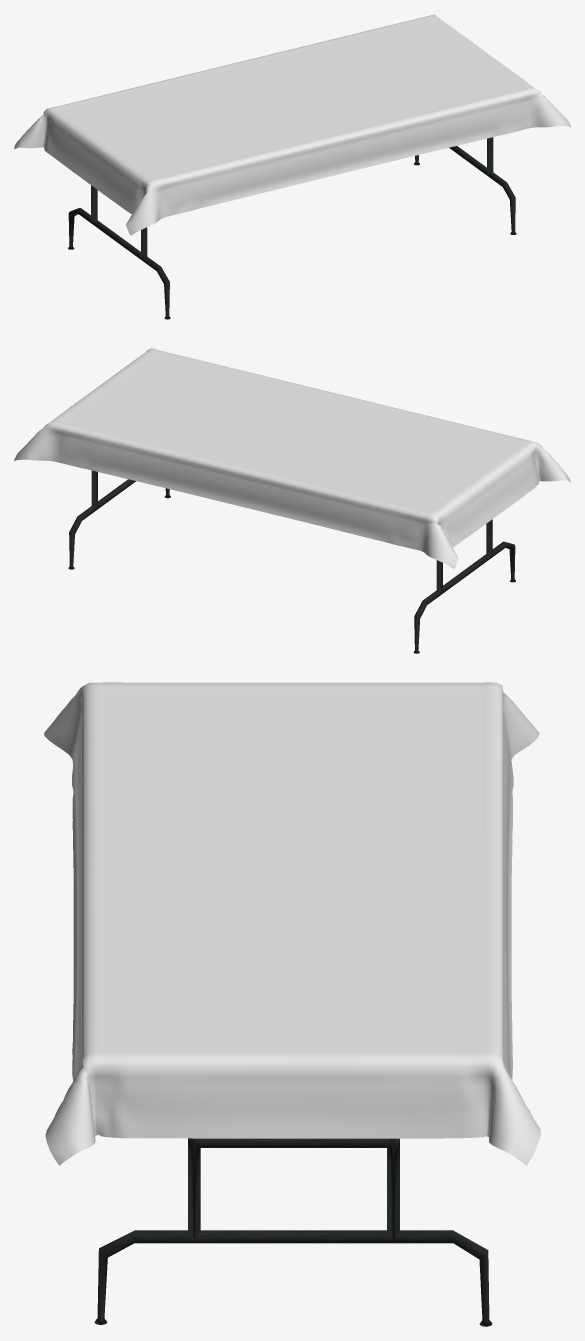
The model's file is TableZEvent.fbx.
3 views of the same model, one above another, from view 1: azimuth 30°, elevation 25°; view 2: azimuth 150°, elevation 25°; view 3: azimuth 270°, elevation 25° (orthographic). The views are drawn at different scales.
Parts seen in each view (by area): view 1: Nappe, Pied01, Pied02; view 2: Nappe, Pied01, Pied02; view 3: Nappe, Pied02.
Boxes of the visible parts, <box> form: Nappe: <box>14,14,570,235</box>; Pied01: <box>68,185,170,319</box>; Pied02: <box>414,137,516,234</box>; Nappe: <box>14,348,570,568</box>; Pied01: <box>413,519,515,653</box>; Pied02: <box>68,470,170,569</box>; Nappe: <box>44,682,540,1165</box>; Pied02: <box>94,1138,492,1326</box>.
Size of the model in its own units: 511 by 159 by 249.
